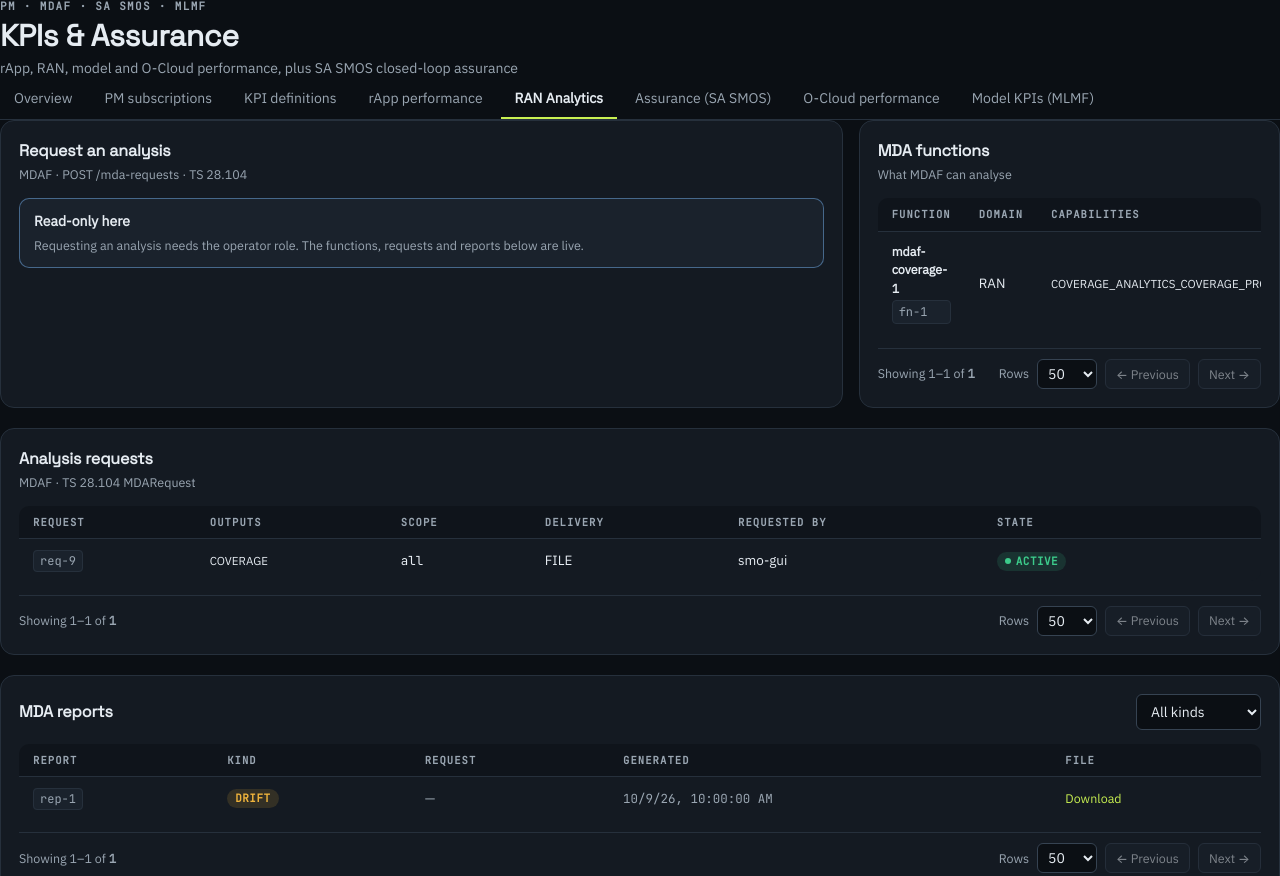
Test: RAN Analytics (feature 9) › lists MDA reports with a kind filter and the file download
Select "PREDICTION" in the dropdown named "Report kind" at [1198, 712], box [1136,694,1261,730]
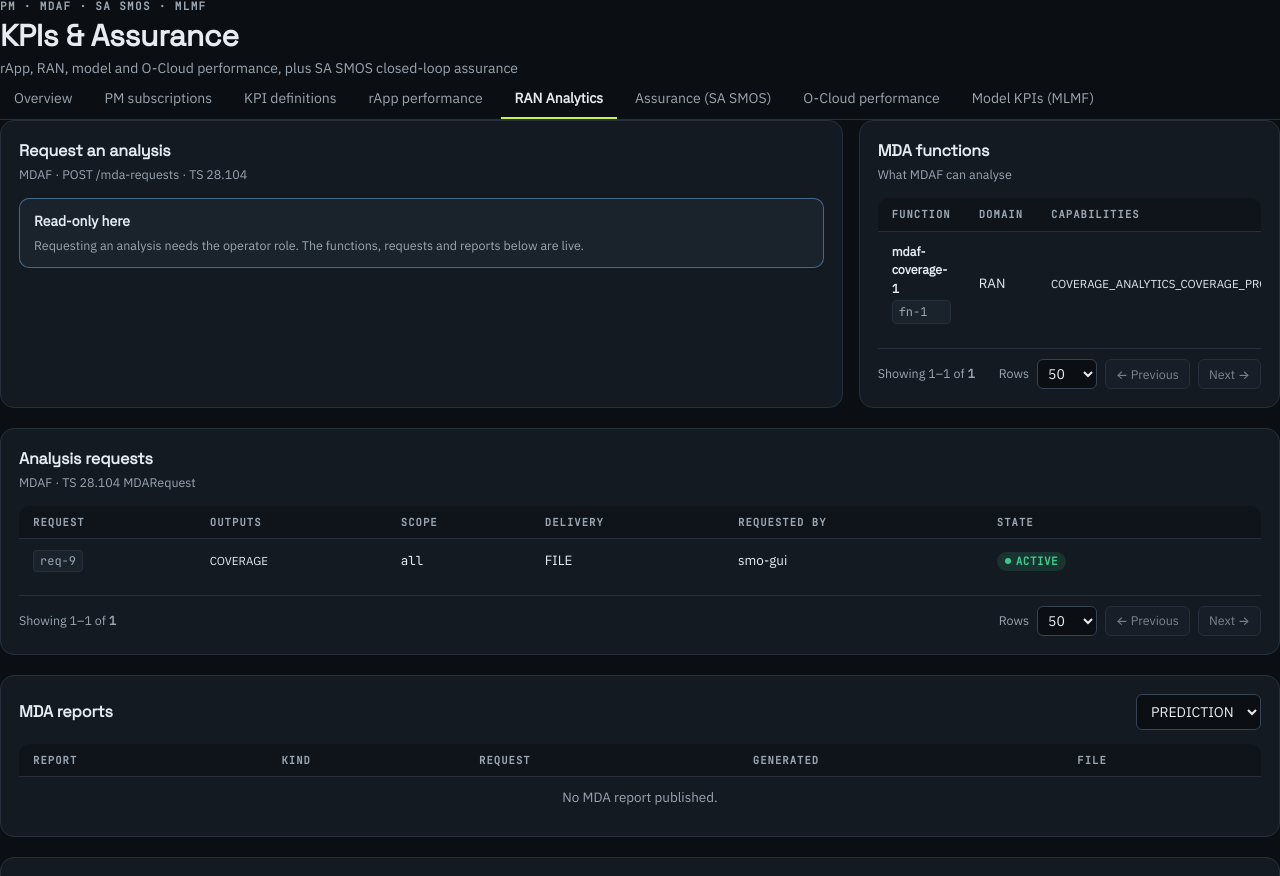
Result: the element that starts with "MDA reports" shows "No MDA report published." at [562,788,718,806]
